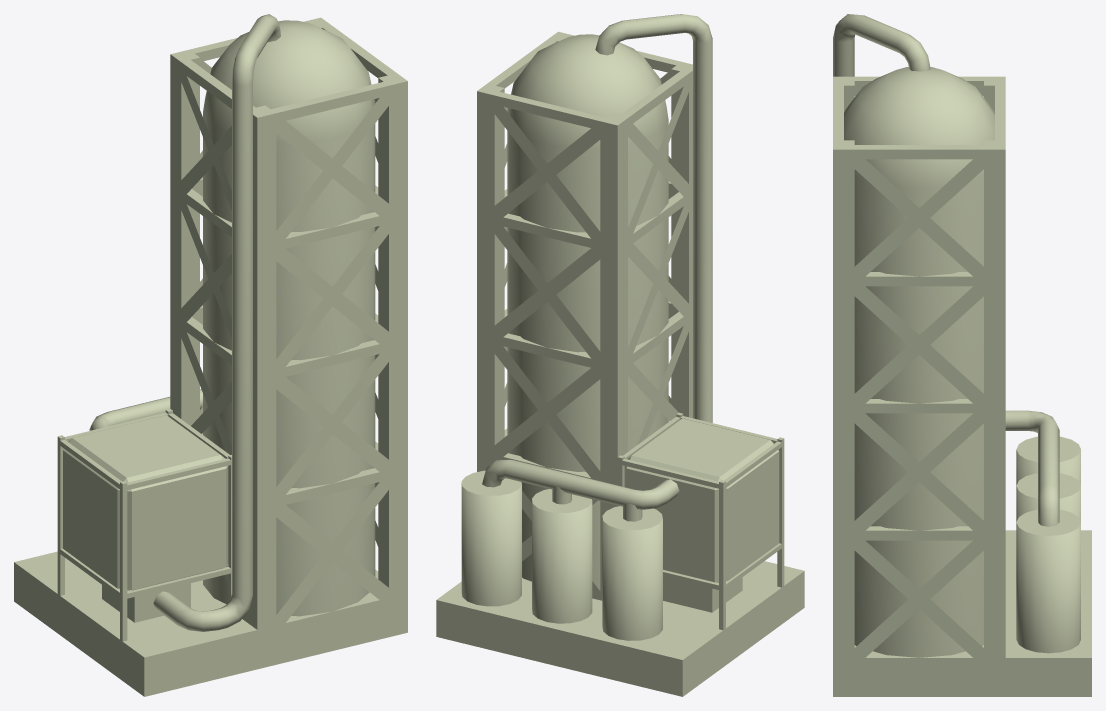
The model's file is cracking_tower.obj.
3 renders of one model, left to right at view 1: azimuth 30°, elevation 25°; view 2: azimuth 150°, elevation 25°; view 3: azimuth 270°, elevation 25°, orthographic. The views are drawn at different scales.
Visible parts, largest first — view 1: Cube_Cube.001; view 2: Cube_Cube.001; view 3: Cube_Cube.001.
Part boxes in pixels (x1,y1,x2,y2): Cube_Cube.001: (14,14,407,696); Cube_Cube.001: (436,14,804,696); Cube_Cube.001: (833,14,1091,696).
Bounding box in the file's own units: 7 × 15.62 × 6.
